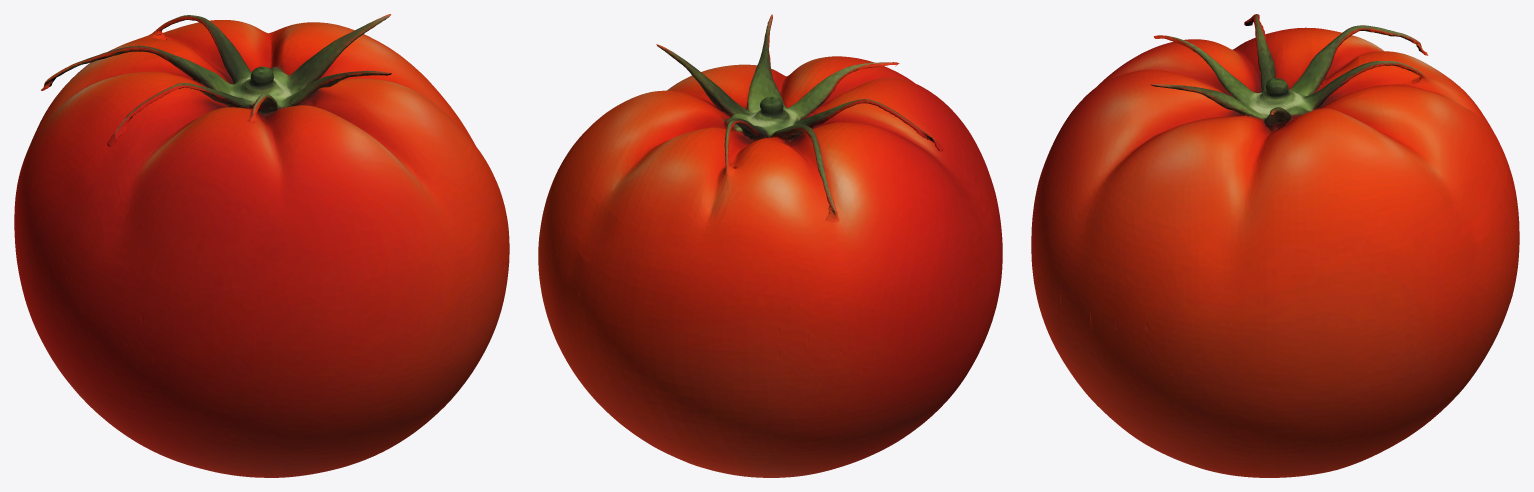
Rendered from big_tomato.glb.
3 views of the same model, side by side, from view 1: azimuth 30°, elevation 25°; view 2: azimuth 150°, elevation 25°; view 3: azimuth 270°, elevation 25° (orthographic). The views are drawn at different scales.
Visible parts, largest first — view 1: big_tomato.obj; view 2: big_tomato.obj; view 3: big_tomato.obj.
Part boxes in pixels (bbox=[...]): big_tomato.obj: bbox=[14, 14, 509, 477]; big_tomato.obj: bbox=[538, 14, 1002, 477]; big_tomato.obj: bbox=[1031, 14, 1519, 477].
Bounding box in the file's own units: 0.0927 × 0.085 × 0.0943.
1 material, 1 textured.
